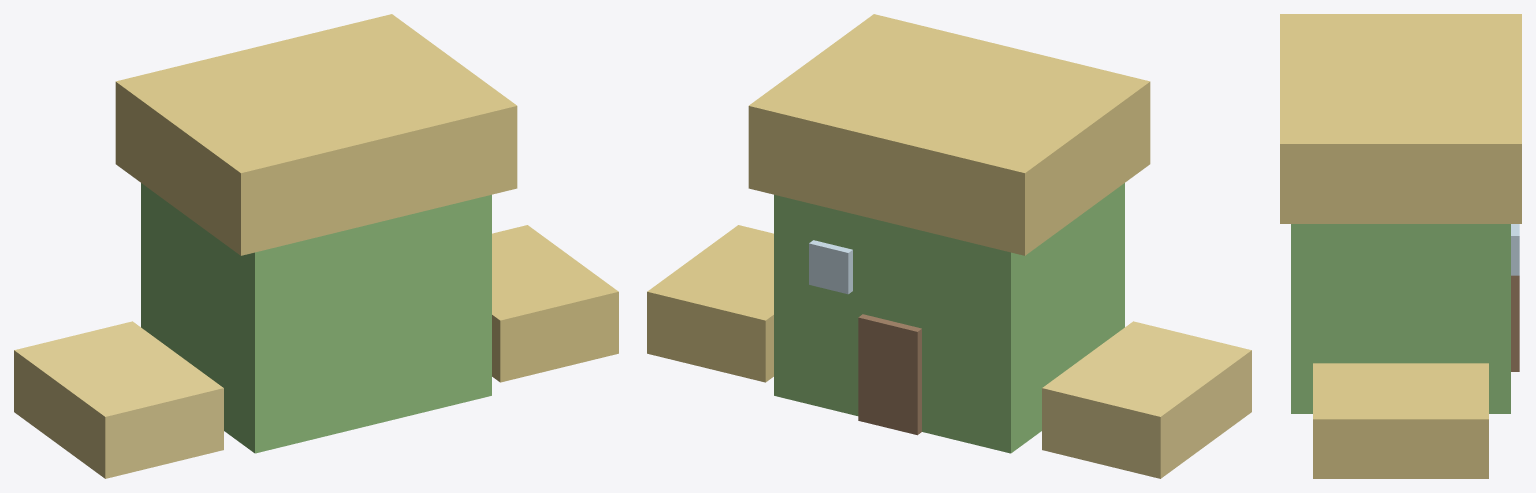
File: farm.glb
3 renders of one model, left to right at view 1: azimuth 30°, elevation 25°; view 2: azimuth 150°, elevation 25°; view 3: azimuth 270°, elevation 25°, orthographic. The views are drawn at different scales.
Visible parts, largest first — view 1: Farm; view 2: Farm; view 3: Farm.
Boxes of the visible parts, x1=… form: Farm: x1=14, y1=14, x2=618, y2=478; Farm: x1=647, y1=14, x2=1251, y2=478; Farm: x1=1280, y1=14, x2=1521, y2=478.
Size of the model in its own units: 1.3 by 0.7 by 0.55.
